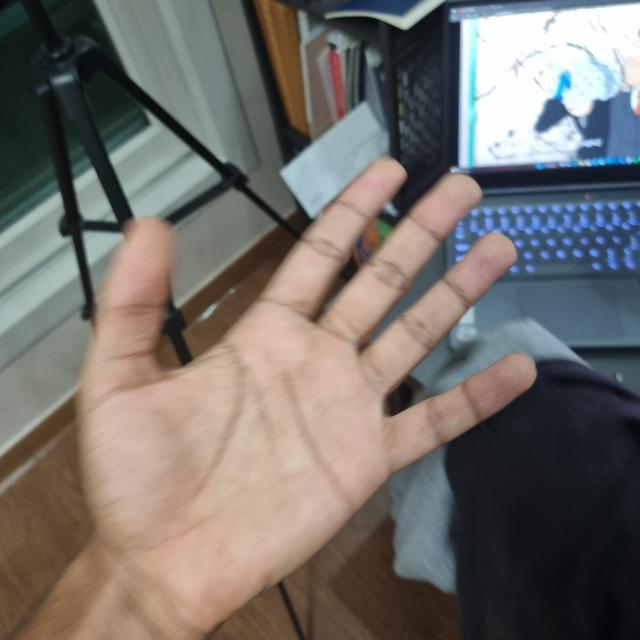Paper: (82, 158, 529, 627)
